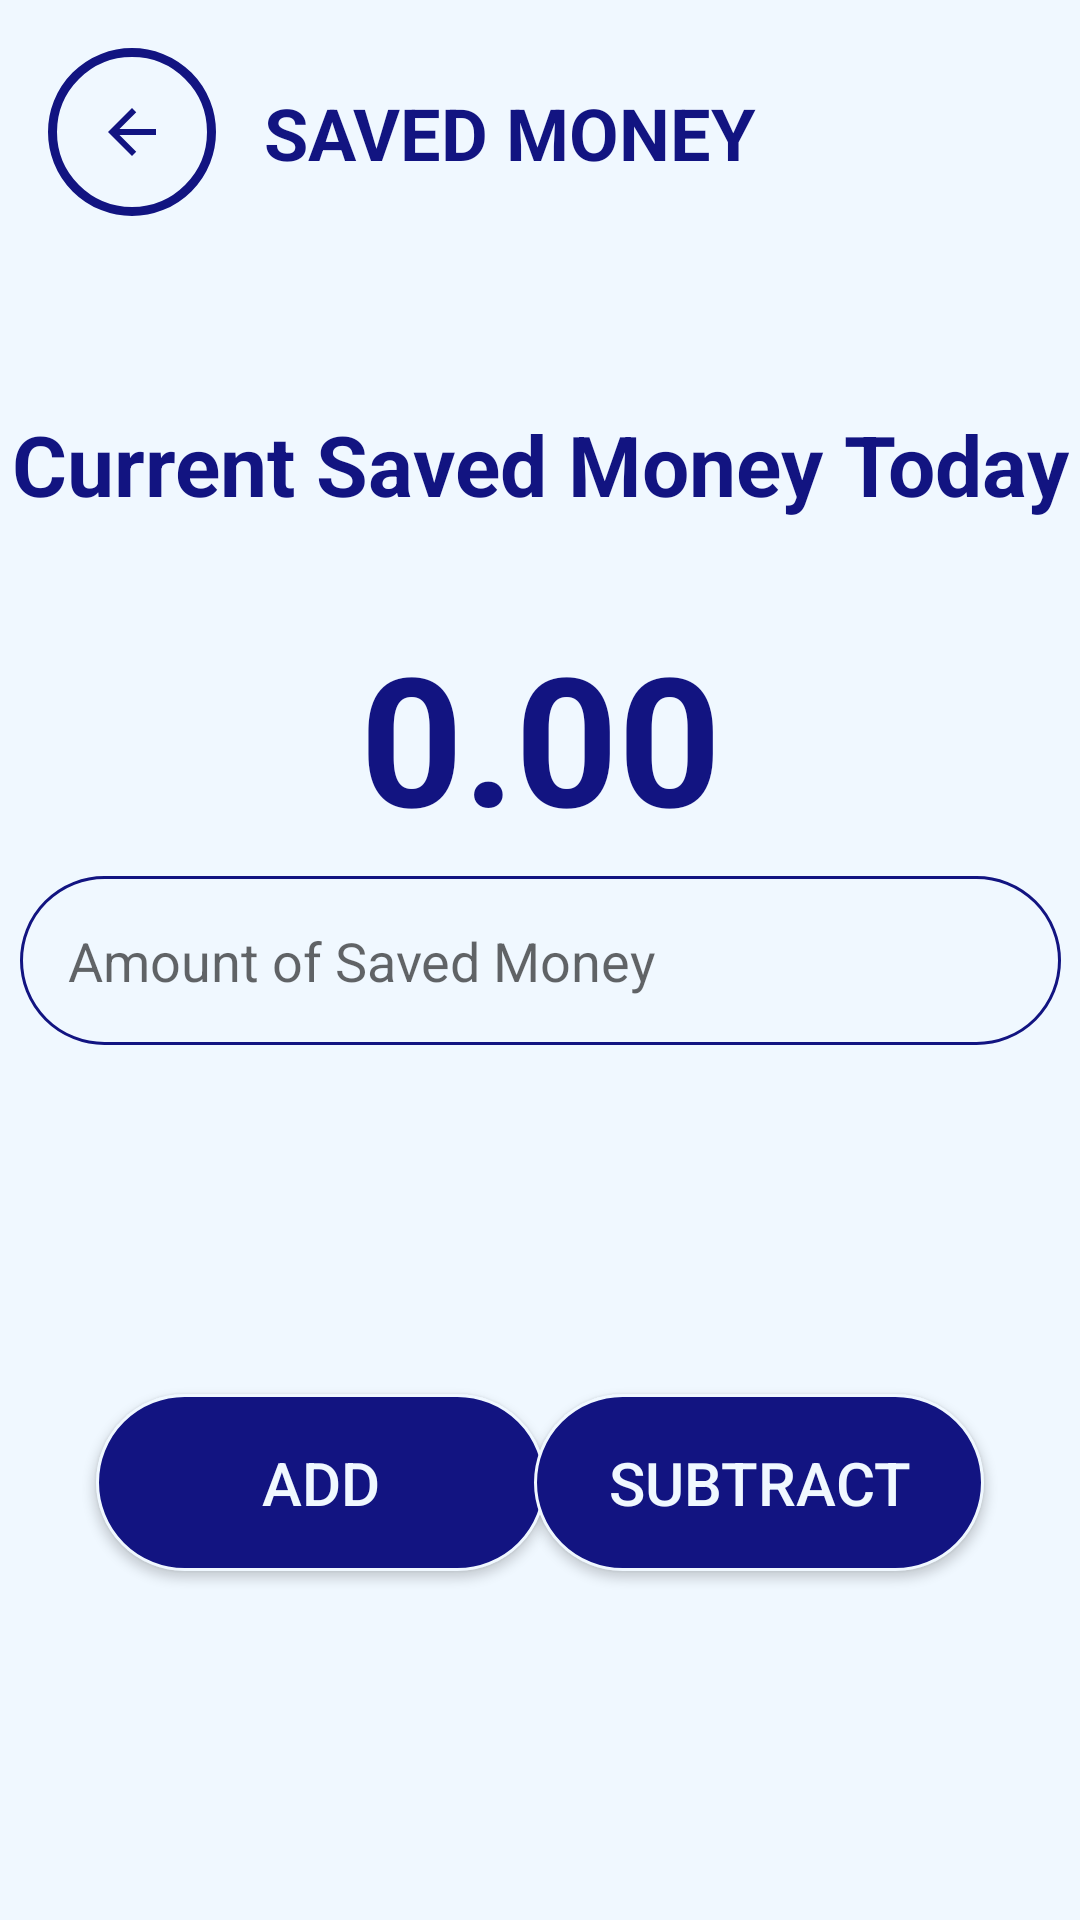

Icons on this 1080px x 1920px Android screen, each with its box as (x1, y1, x2, y2):
Back Button: (48, 48, 216, 216)
